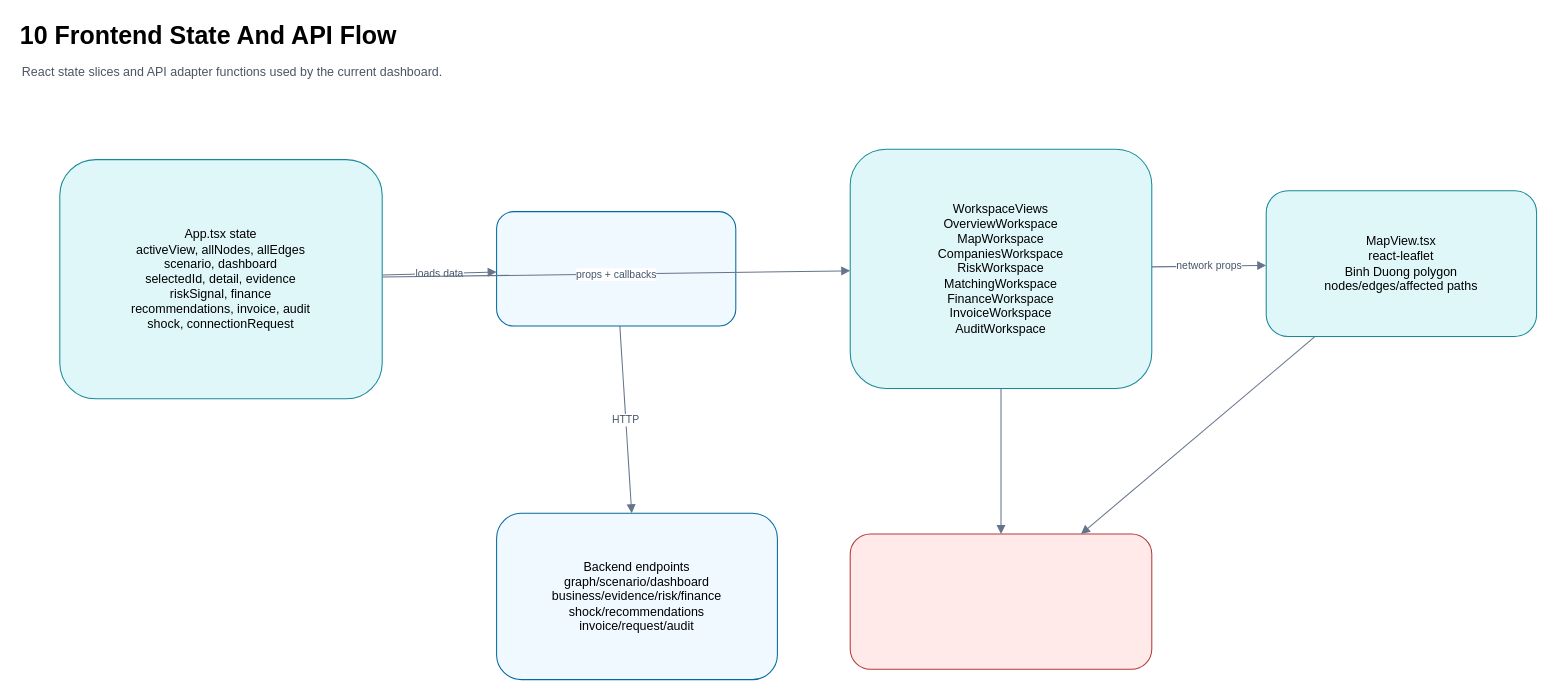
Image size: 1555x698. Some labels were removed from this diagram. Here are the shapes that lost their labels. From the top down, the centre of each, then its label:
At point (616, 268): "api/client.ts requestJson() mapping functions fallback on read APIs".
At point (1000, 601): "Rendered UX dark operational cockpit human approval legal/finance disclaimers".
